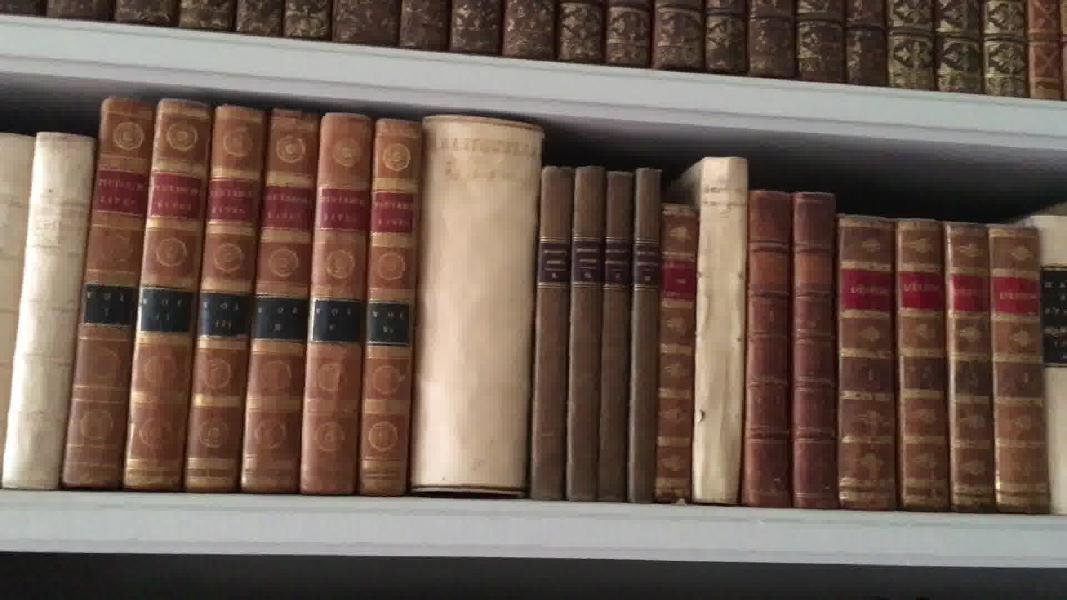Kk4-14: (416, 106, 519, 497)
Kk4-15_16: (532, 163, 607, 509)
Kk4-17_18: (599, 157, 663, 500)
Kk4-19: (654, 194, 688, 513)
Kk4-20: (688, 150, 738, 506)
Kk4-21_22: (744, 184, 832, 506)
Kk4-23_26: (838, 206, 1048, 509)
Kk4-8_13: (91, 88, 413, 506)
